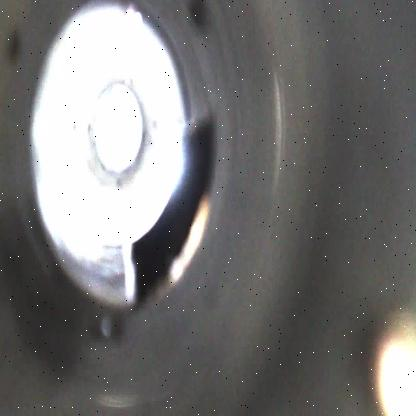Crack2: (127, 112, 221, 312)
